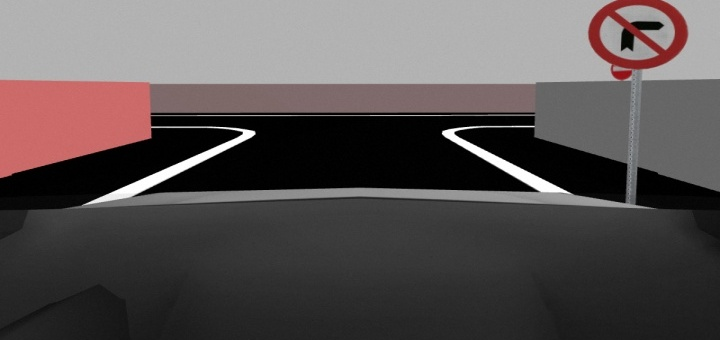saga_donulmez: (589, 1, 689, 73)
